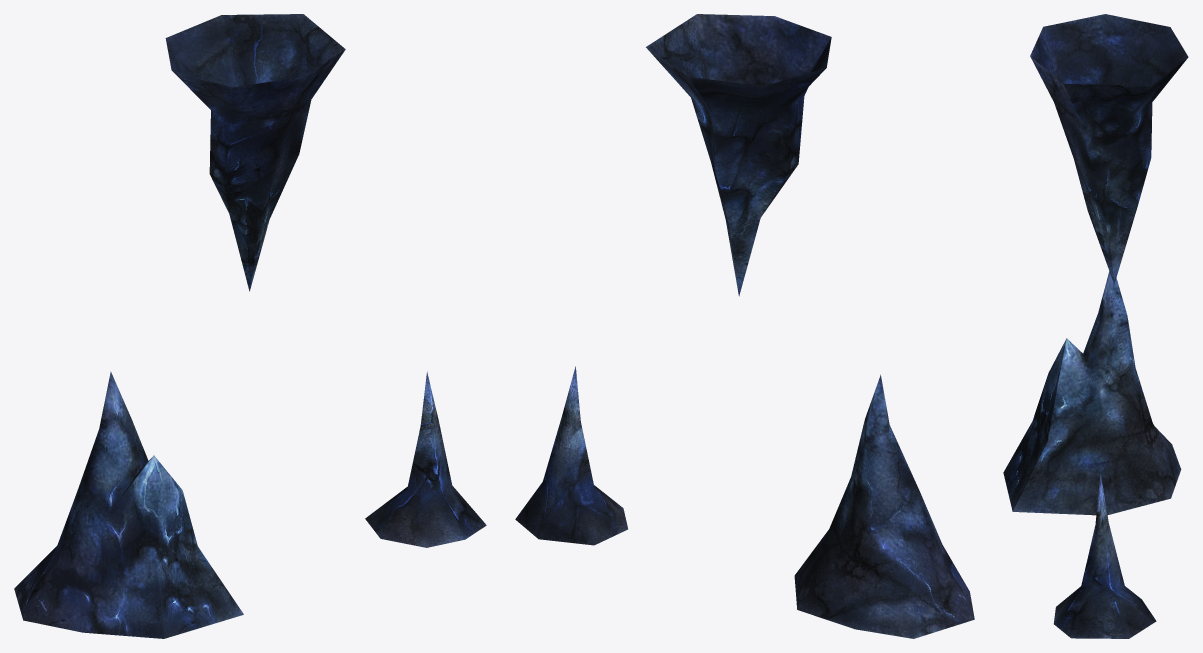
File: level2_zhongrushi.FBX
3 renders of one model, left to right at view 1: azimuth 30°, elevation 25°; view 2: azimuth 150°, elevation 25°; view 3: azimuth 270°, elevation 25°, orthographic. The views are drawn at different scales.
Parts seen in each view (by area): view 1: zhongrushi_01, zhongrushi_02, zhongrushi_03; view 2: zhongrushi_02, zhongrushi_01, zhongrushi_03; view 3: zhongrushi_01, zhongrushi_02, zhongrushi_03.
Boxes of the visible parts, x1,y1,x2,y2 form: zhongrushi_01: [14, 371, 243, 638]; zhongrushi_02: [165, 14, 345, 291]; zhongrushi_03: [365, 371, 486, 547]; zhongrushi_02: [646, 14, 831, 296]; zhongrushi_01: [794, 374, 974, 638]; zhongrushi_03: [515, 366, 627, 545]; zhongrushi_01: [1003, 271, 1181, 515]; zhongrushi_02: [1030, 14, 1188, 284]; zhongrushi_03: [1053, 474, 1156, 638].
Bounding box in the file's own units: 7.19 × 7.92 × 2.73.
